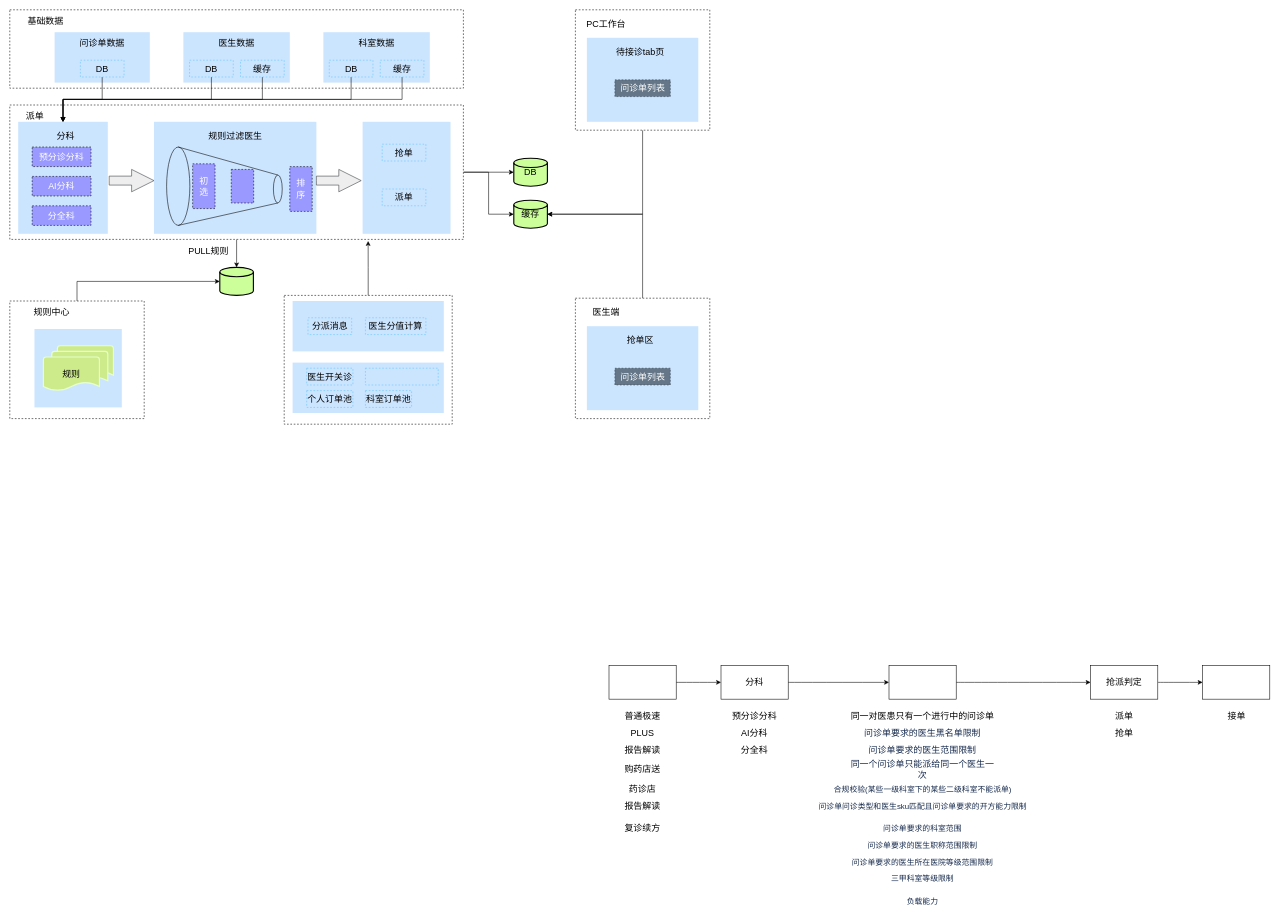
This 1280x916 diagram has some shape labels left out. Each missing label, with the centre of its shape:
DUCC: the point at 236,281
医生接单: the point at 1236,682
医生接诊范围同步: the point at 401,376
用户下单: the point at 642,682
规则过滤: the point at 922,682
过 滤: the point at 242,186
